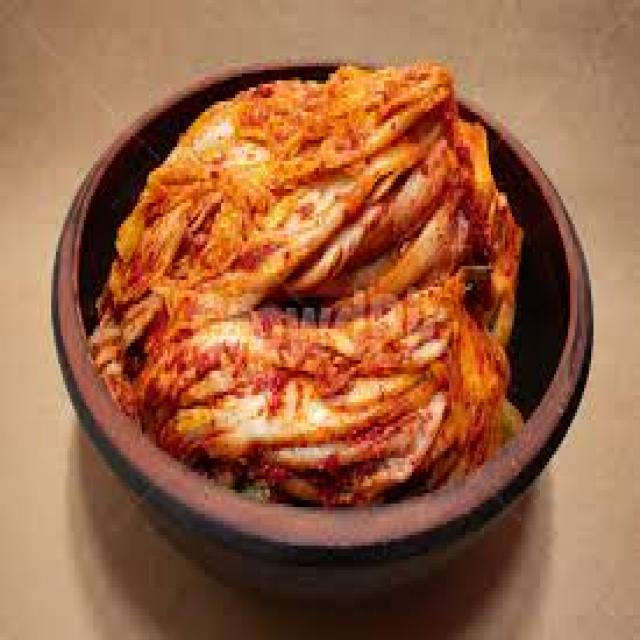kimchi: (216, 59, 454, 440)
